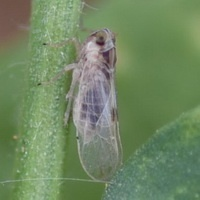insect: (64, 29, 121, 180)
